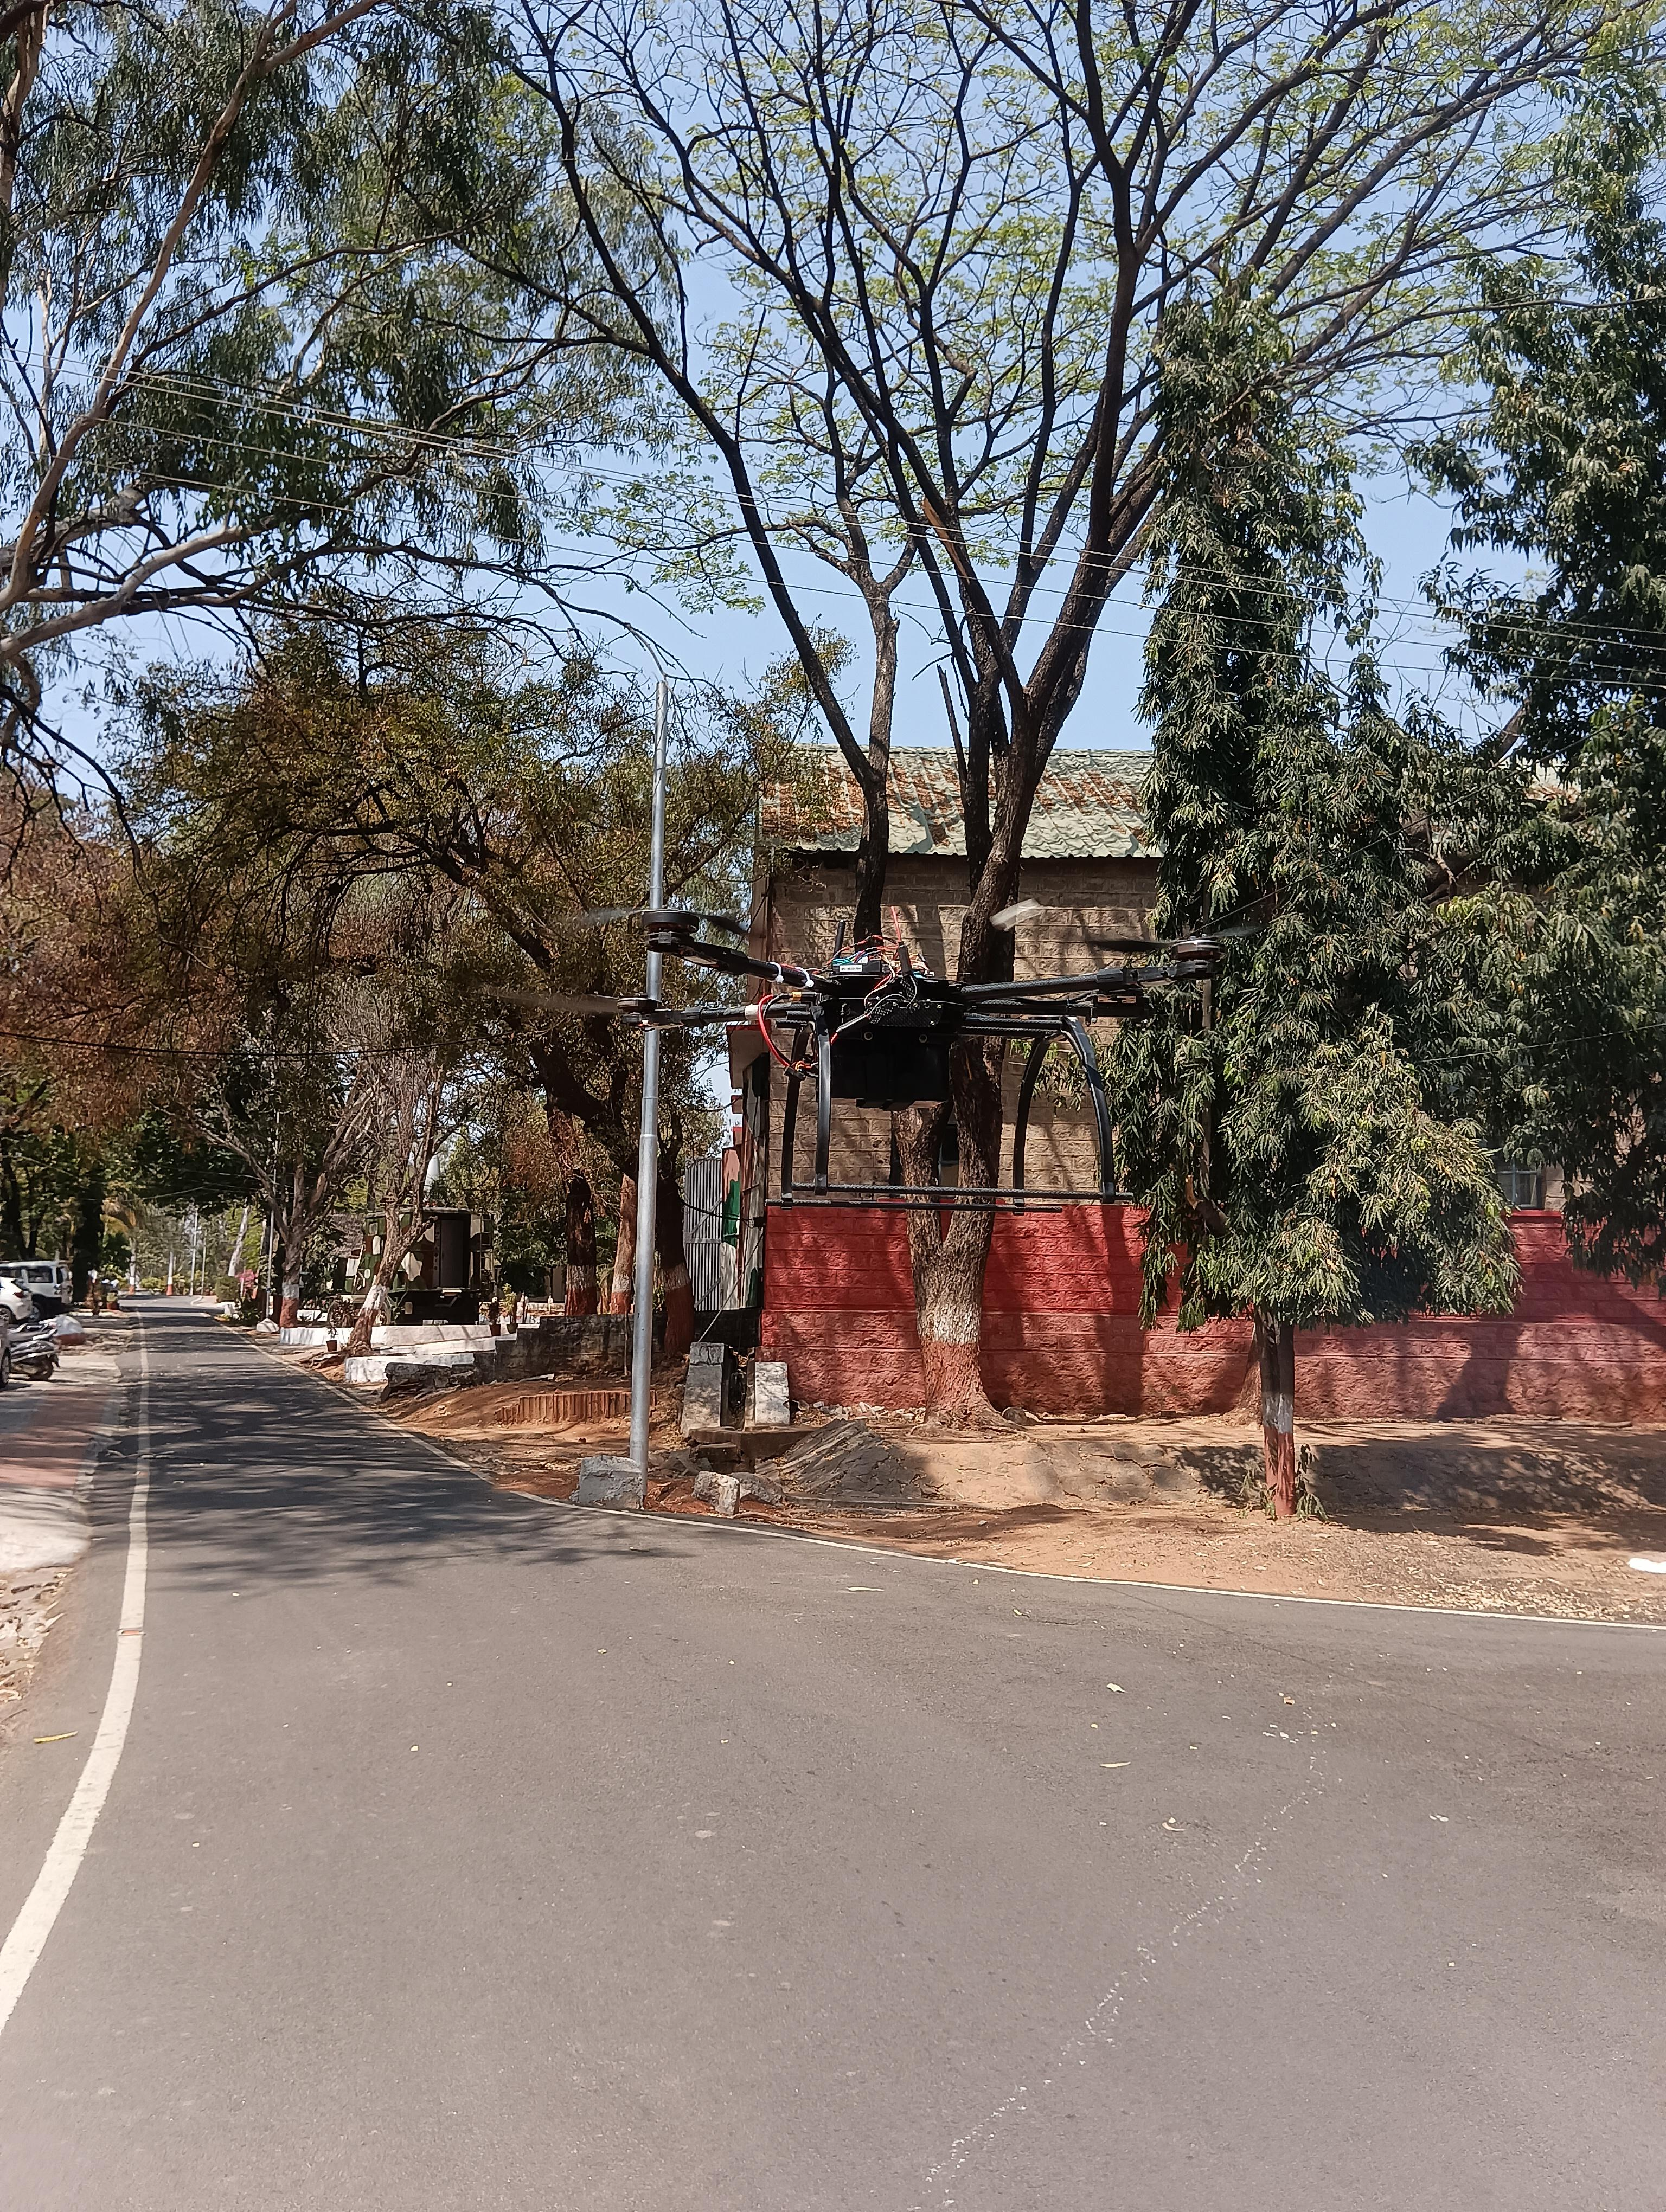drone: (511, 863, 1289, 1261)
